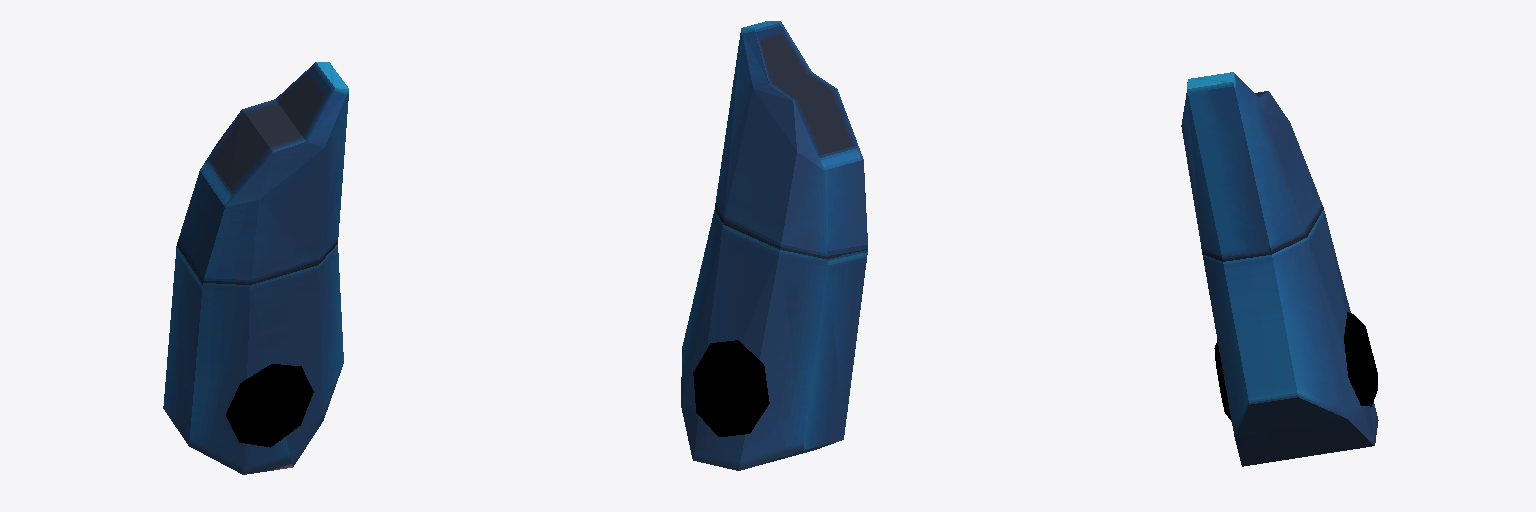
3 renders of one model, left to right at view 1: azimuth 30°, elevation 25°; view 2: azimuth 150°, elevation 25°; view 3: azimuth 270°, elevation 25°, orthographic.
Visible parts, largest first — view 1: Pierna_izquierda003, Pierna_izquierda002; view 2: Pierna_izquierda003, Pierna_izquierda001, Pierna_izquierda; view 3: Pierna_izquierda003, Pierna_izquierda001.
Boxes of the visible parts, box(x1,y1,x2,y2) form: Pierna_izquierda003: box(163, 62, 348, 474); Pierna_izquierda002: box(226, 364, 313, 447); Pierna_izquierda003: box(681, 21, 867, 470); Pierna_izquierda001: box(693, 340, 769, 436); Pierna_izquierda: box(793, 102, 823, 169); Pierna_izquierda003: box(1181, 72, 1378, 466); Pierna_izquierda001: box(1344, 312, 1377, 406).
Bounding box in the file's own units: 1.65 × 4.16 × 1.84.
2 materials, 1 textured.